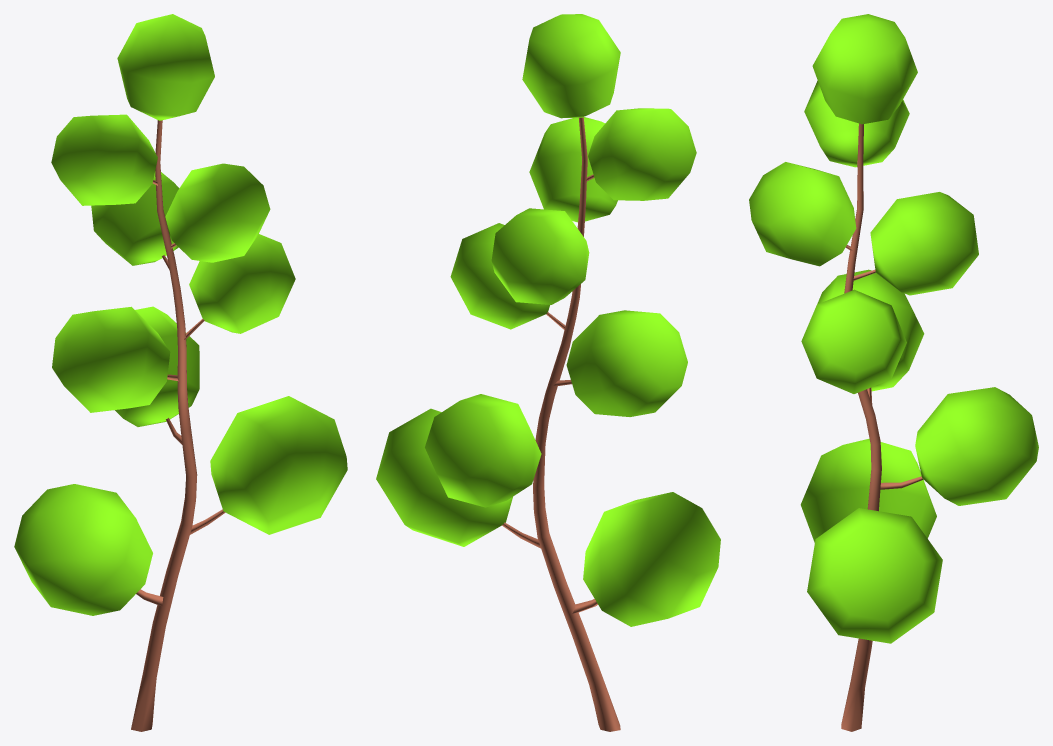
The model's file is Tree_Bobo4.fbx.
The picture shows the model from 3 angles, left to right: view 1: azimuth 30°, elevation 25°; view 2: azimuth 150°, elevation 25°; view 3: azimuth 270°, elevation 25°; orthographic projection. The views are drawn at different scales.
Visible parts, largest first — view 1: Mesh; view 2: Mesh; view 3: Mesh.
Boxes of the visible parts, x1,y1,x2,y2 form: Mesh: (14,14,347,731); Mesh: (376,14,720,731); Mesh: (749,14,1038,731).
Bounding box in the file's own units: 1795 × 3770 × 1367.
